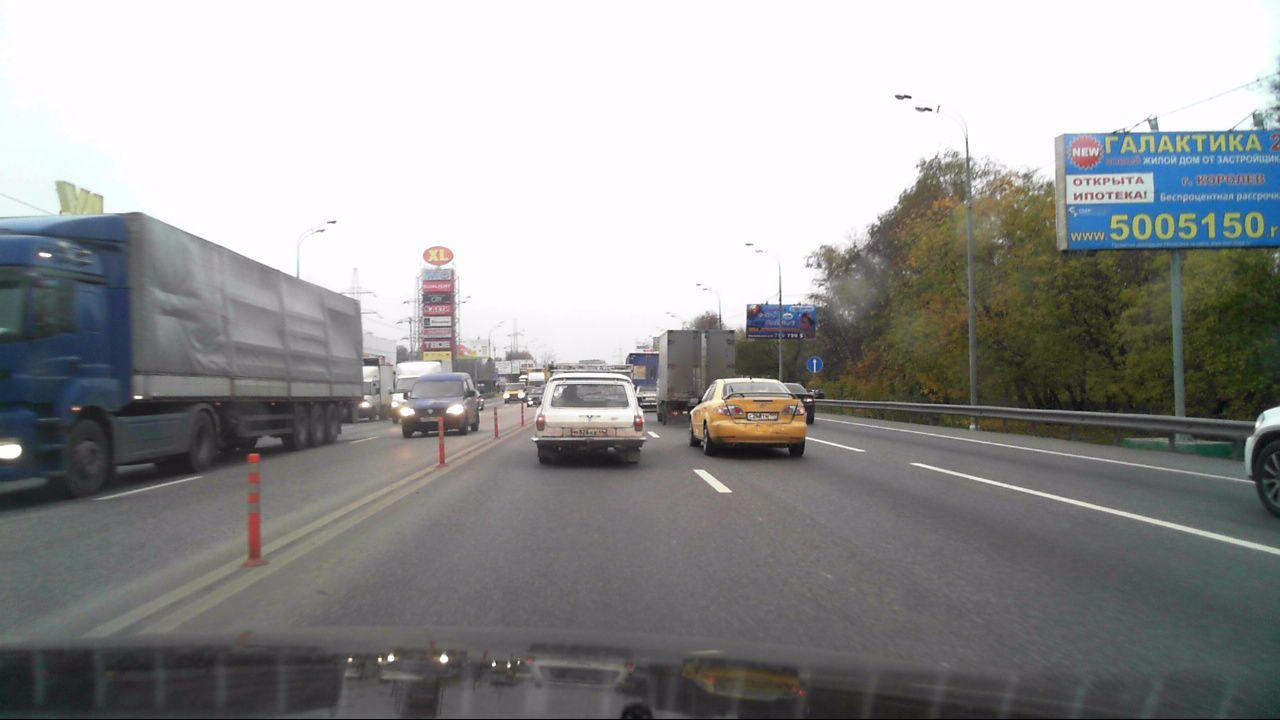road_sign: (807, 355, 823, 373)
